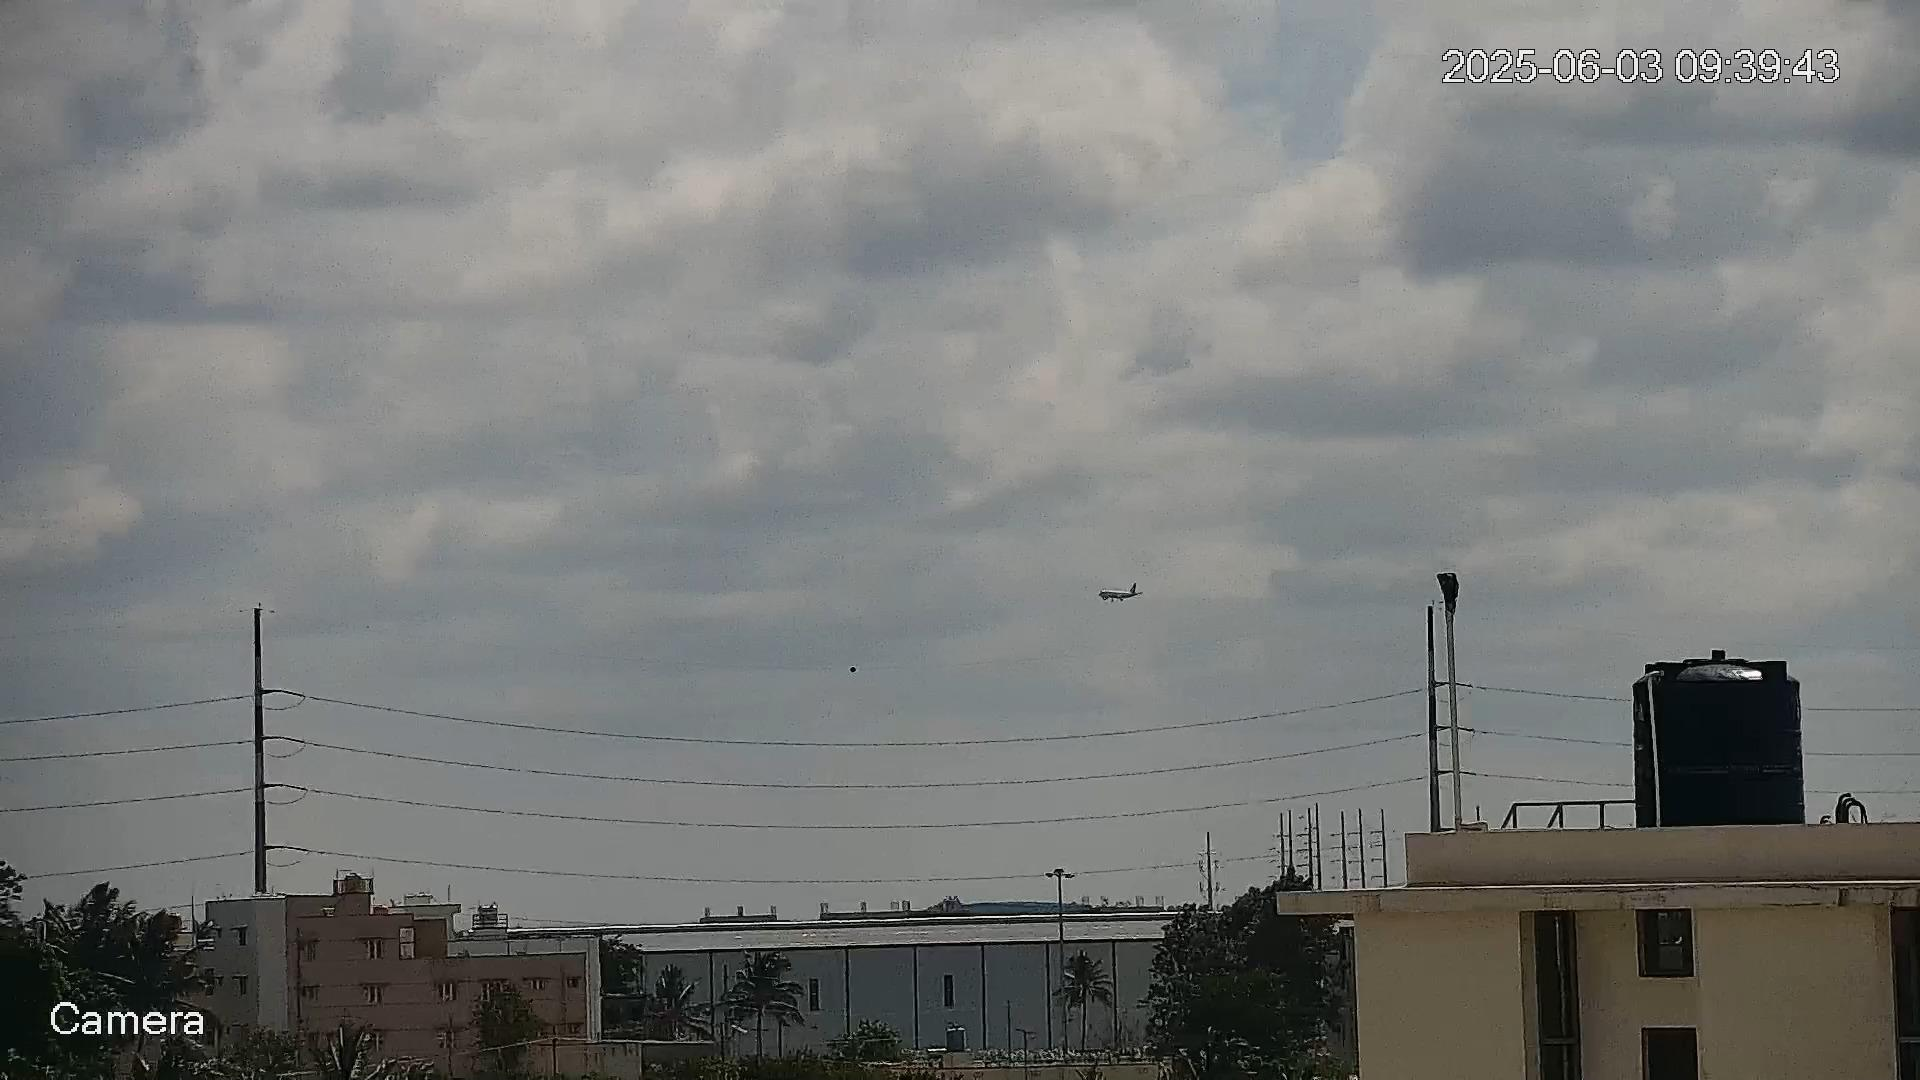Aircraft: (1098, 582, 1143, 603)
